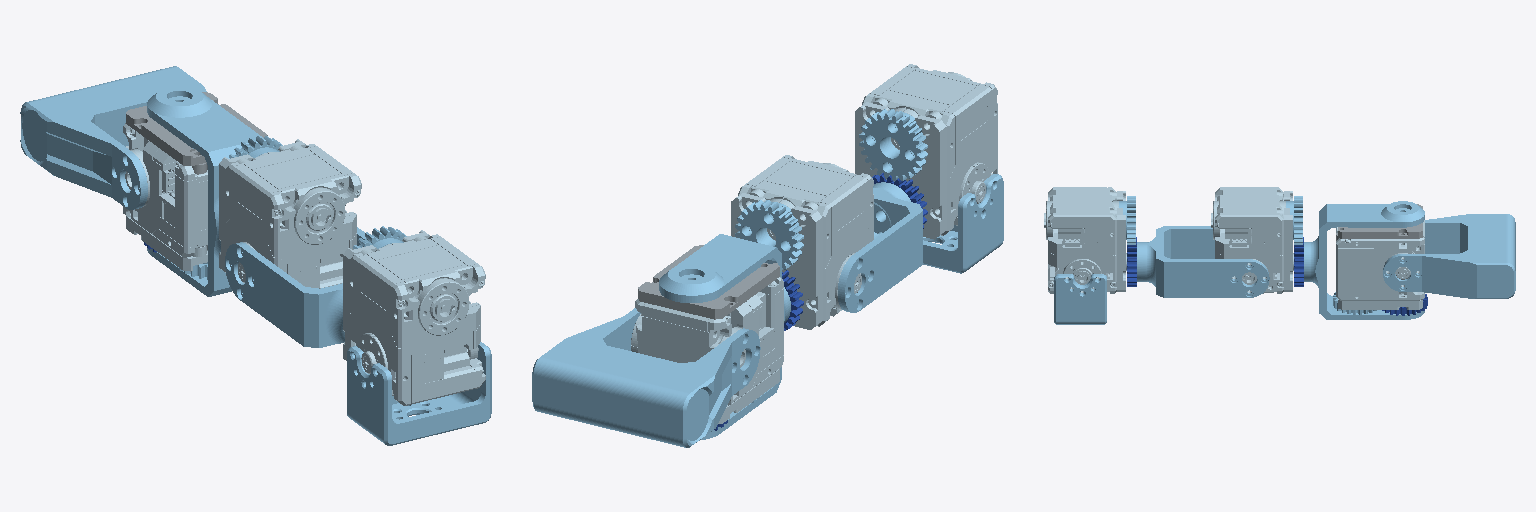
URDF robot description (right_arm_hand):
<?xml version="1.0" ?><robot name="right_arm_hand">  
  <link name="sho_pitch_link">    
    <visual>      
      <origin xyz="0 0 0" rpy="0 -0 0"/>      
      <geometry>        
        <mesh filename="package:///meshes/right_sho_pitch_link_visual.stl"/>        
      </geometry>      
      <material name="sho_pitch_link_material">        
        <color rgba="0.61568627450980395466 0.81176470588235294379 0.9294117647058824927 1.0"/>        
      </material>      
    </visual>    
    <collision>      
      <origin xyz="0 0 0" rpy="0 -0 0"/>      
      <geometry>        
        <mesh filename="package:///meshes/right_sho_pitch_link_collision.stl"/>        
      </geometry>      
    </collision>    
    <inertial>      
      <origin xyz="5.8254248046275251526e-11 -5.126464256112093186e-05 0.008244078812709491888" rpy="0 0 0"/>      
      <mass value="0.0085999999999999930667"/>      
      <inertia ixx="1.227288704054578552e-06" ixy="-2.142994420544767514e-14" ixz="-8.5847198719137675016e-15" iyy="2.9107306060364611617e-06" iyz="7.4623841398182852399e-09" izz="3.0803135950773479222e-06"/>      
    </inertial>    
  </link>  

  <link name="2xl430_gears">    
    <visual>      
      <origin xyz="0 0 0" rpy="0 -0 0"/>      
      <geometry>        
        <mesh filename="package:///meshes/right_2xl430_gears_visual.stl"/>        
      </geometry>      
      <material name="2xl430_gears_material">        
        <color rgba="0.75605985687944088358 0.8580469596269301169 0.91320266199377453376 1.0"/>        
      </material>      
    </visual>    
    <collision>      
      <origin xyz="0 0 0" rpy="0 -0 0"/>      
      <geometry>        
        <mesh filename="package:///meshes/right_2xl430_gears_collision.stl"/>        
      </geometry>      
    </collision>    
    <inertial>      
      <origin xyz="-0.011593155021923897546 -0.0024238821558085605311 -0.018551095523803726173" rpy="0 0 0"/>      
      <mass value="0.11800003674524907338"/>      
      <inertia ixx="2.7511554932655991169e-05" ixy="8.9994756795027824038e-07" ixz="-2.3362914880176381532e-08" iyy="3.2796647067985858378e-05" iyz="-6.5715261571562032637e-07" izz="3.577588668422519762e-05"/>      
    </inertial>    
  </link>  

  <link name="spur_1m_24t_drive">    
    <visual>      
      <origin xyz="0 0 0" rpy="0 -0 0"/>      
      <geometry>        
        <mesh filename="package:///meshes/right_spur_1m_24t_drive_visual.stl"/>        
      </geometry>      
      <material name="spur_1m_24t_drive_material">        
        <color rgba="0.61568627450980406568 0.81176470588235294379 0.92941176470588238168 1.0"/>        
      </material>      
    </visual>    
    <collision>      
      <origin xyz="0 0 0" rpy="0 -0 0"/>      
      <geometry>        
        <mesh filename="package:///meshes/right_spur_1m_24t_drive_collision.stl"/>        
      </geometry>      
    </collision>    
    <inertial>      
      <origin xyz="-7.7450709057219829365e-15 -1.2117261756637246574e-16 0.0047949116178401460231" rpy="0 0 0"/>      
      <mass value="0.0032000000000000001533"/>      
      <inertia ixx="1.4019331346159887702e-07" ixy="1.6002409955622246819e-15" ixz="1.6522681797794404179e-36" iyy="1.4019331260388786185e-07" iyz="-8.3216796199689805911e-37" izz="2.3838919844264060647e-07"/>      
    </inertial>    
  </link>  

  <joint name="right_sho_yaw_drive" type="revolute">    
    <origin xyz="-0.024000000716138239487 -0.019000000152445333662 -0.019000000152448428409" rpy="1.5707963267949289765 -7.4034293748640148514e-14 5.4343716361633809931e-15"/>    
    <parent link="2xl430_gears"/>    
    <child link="spur_1m_24t_drive"/>    
    <axis xyz="0 0 1"/>    
    <limit effort="1" velocity="20" lower="-2.6179938779914944114" upper="2.6179938779914944114"/>    
    <joint_properties friction="0.0"/>    
  </joint>  

  <link name="spur_1m_24t_driven">    
    <visual>      
      <origin xyz="0 0 0" rpy="0 -0 0"/>      
      <geometry>        
        <mesh filename="package:///meshes/right_spur_1m_24t_driven_visual.stl"/>        
      </geometry>      
      <material name="spur_1m_24t_driven_material">        
        <color rgba="0.23137254901960788156 0.38039215686274502337 0.7058823529411765163 1.0"/>        
      </material>      
    </visual>    
    <collision>      
      <origin xyz="0 0 0" rpy="0 -0 0"/>      
      <geometry>        
        <mesh filename="package:///meshes/right_spur_1m_24t_driven_collision.stl"/>        
      </geometry>      
    </collision>    
    <inertial>      
      <origin xyz="2.4368008297630735332e-18 -5.8053882331981886161e-15 -0.00097054817521927832808" rpy="0 0 0"/>      
      <mass value="0.0026999999999999997093"/>      
      <inertia ixx="1.2036234079571063062e-07" ixy="0" ixz="0" iyy="1.203623407957104718e-07" iyz="5.3440906710062173688e-38" izz="2.2847261745924530022e-07"/>      
    </inertial>    
  </link>  

  <link name="sho_yaw_link">    
    <visual>      
      <origin xyz="0 0 0" rpy="0 -0 0"/>      
      <geometry>        
        <mesh filename="package:///meshes/right_sho_yaw_link_visual.stl"/>        
      </geometry>      
      <material name="sho_yaw_link_material">        
        <color rgba="0.61568627450980395466 0.81176470588235294379 0.92941176470588238168 1.0"/>        
      </material>      
    </visual>    
    <collision>      
      <origin xyz="0 0 0" rpy="0 -0 0"/>      
      <geometry>        
        <mesh filename="package:///meshes/right_sho_yaw_link_collision.stl"/>        
      </geometry>      
    </collision>    
    <inertial>      
      <origin xyz="-4.7512033799507649729e-18 2.3540653012766218147e-18 -0.024303257848520151696" rpy="0 0 0"/>      
      <mass value="0.014500000000000011144"/>      
      <inertia ixx="9.0846670053041365841e-06" ixy="3.622409280640416356e-13" ixz="4.2856349173576421916e-43" iyy="5.6910950712097525028e-06" iyz="4.9879708115840720923e-36" izz="4.4819609845548975929e-06"/>      
    </inertial>    
  </link>  

  <link name="2xl430_gears_2">    
    <visual>      
      <origin xyz="0 0 0" rpy="0 -0 0"/>      
      <geometry>        
        <mesh filename="package:///meshes/right_2xl430_gears_2_visual.stl"/>        
      </geometry>      
      <material name="2xl430_gears_2_material">        
        <color rgba="0.75605985687944088358 0.8580469596269301169 0.91320266199377453376 1.0"/>        
      </material>      
    </visual>    
    <collision>      
      <origin xyz="0 0 0" rpy="0 -0 0"/>      
      <geometry>        
        <mesh filename="package:///meshes/right_2xl430_gears_2_collision.stl"/>        
      </geometry>      
    </collision>    
    <inertial>      
      <origin xyz="-0.011593155021929807749 -0.0024238821558083567011 -0.018551095523805894577" rpy="0 0 0"/>      
      <mass value="0.11800003674524907338"/>      
      <inertia ixx="2.7511554932657410796e-05" ixy="8.9994756794943607787e-07" ixz="-2.3362914879880872913e-08" iyy="3.2796647067986874817e-05" iyz="-6.5715261571593372856e-07" izz="3.5775886684226498662e-05"/>      
    </inertial>    
  </link>  

  <link name="spur_1m_24t_drive_2">    
    <visual>      
      <origin xyz="0 0 0" rpy="0 -0 0"/>      
      <geometry>        
        <mesh filename="package:///meshes/right_spur_1m_24t_drive_2_visual.stl"/>        
      </geometry>      
      <material name="spur_1m_24t_drive_2_material">        
        <color rgba="0.61568627450980406568 0.81176470588235294379 0.92941176470588238168 1.0"/>        
      </material>      
    </visual>    
    <collision>      
      <origin xyz="0 0 0" rpy="0 -0 0"/>      
      <geometry>        
        <mesh filename="package:///meshes/right_spur_1m_24t_drive_2_collision.stl"/>        
      </geometry>      
    </collision>    
    <inertial>      
      <origin xyz="-7.7589486935297973933e-15 -1.2117261756637246574e-16 0.0047949116178401382168" rpy="0 0 0"/>      
      <mass value="0.0032000000000000001533"/>      
      <inertia ixx="1.4019331346159887702e-07" ixy="1.6002409955622246819e-15" ixz="-1.1681704812628667432e-35" iyy="1.4019331260388786185e-07" iyz="2.4795678825907448533e-36" izz="2.3838919844264060647e-07"/>      
    </inertial>    
  </link>  

  <joint name="right_elbow_yaw_drive" type="revolute">    
    <origin xyz="-0.024000000716147155966 -0.019000000152450832736 -0.019000000152450298441" rpy="1.5707963267949571762 2.9595367256237359919e-14 -6.4343145465762955833e-14"/>    
    <parent link="2xl430_gears_2"/>    
    <child link="spur_1m_24t_drive_2"/>    
    <axis xyz="0 0 1"/>    
    <limit effort="1" velocity="20" lower="-2.6179938779914944114" upper="2.6179938779914944114"/>    
    <joint_properties friction="0.0"/>    
  </joint>  

  <link name="spur_1m_24t_driven_2">    
    <visual>      
      <origin xyz="0 0 0" rpy="0 -0 0"/>      
      <geometry>        
        <mesh filename="package:///meshes/right_spur_1m_24t_driven_2_visual.stl"/>        
      </geometry>      
      <material name="spur_1m_24t_driven_2_material">        
        <color rgba="0.23137254901960788156 0.38039215686274502337 0.7058823529411765163 1.0"/>        
      </material>      
    </visual>    
    <collision>      
      <origin xyz="0 0 0" rpy="0 -0 0"/>      
      <geometry>        
        <mesh filename="package:///meshes/right_spur_1m_24t_driven_2_collision.stl"/>        
      </geometry>      
    </collision>    
    <inertial>      
      <origin xyz="-1.0326461221905406556e-18 -5.8053882331981886161e-15 -0.00097054817521928515855" rpy="0 0 0"/>      
      <mass value="0.0026999999999999997093"/>      
      <inertia ixx="1.2036234079571063062e-07" ixy="0" ixz="0" iyy="1.203623407957104718e-07" iyz="-8.2412659182369258854e-37" izz="2.2847261745924530022e-07"/>      
    </inertial>    
  </link>  

  <link name="elb_yaw_link">    
    <visual>      
      <origin xyz="0 0 0" rpy="0 -0 0"/>      
      <geometry>        
        <mesh filename="package:///meshes/right_elb_yaw_link_visual.stl"/>        
      </geometry>      
      <material name="elb_yaw_link_material">        
        <color rgba="0.61568627450980395466 0.81176470588235294379 0.9294117647058824927 1.0"/>        
      </material>      
    </visual>    
    <collision>      
      <origin xyz="0 0 0" rpy="0 -0 0"/>      
      <geometry>        
        <mesh filename="package:///meshes/right_elb_yaw_link_collision.stl"/>        
      </geometry>      
    </collision>    
    <inertial>      
      <origin xyz="5.3127688027307578707e-08 0.0019833638641961670243 -0.023416643551549969765" rpy="0 0 0"/>      
      <mass value="0.017499999999999998196"/>      
      <inertia ixx="1.4134344903109192999e-05" ixy="1.6945783921971547142e-12" ixz="-1.1286398721902334746e-11" iyy="6.6435900776211298052e-06" iyz="1.0545227077253051227e-06" izz="8.9925290757998959832e-06"/>      
    </inertial>    
  </link>  

  <link name="spur_1m_24t_driven_3">    
    <visual>      
      <origin xyz="0 0 0" rpy="0 -0 0"/>      
      <geometry>        
        <mesh filename="package:///meshes/right_spur_1m_24t_driven_3_visual.stl"/>        
      </geometry>      
      <material name="spur_1m_24t_driven_3_material">        
        <color rgba="0.23137254901960788156 0.38039215686274502337 0.7058823529411765163 1.0"/>        
      </material>      
    </visual>    
    <collision>      
      <origin xyz="0 0 0" rpy="0 -0 0"/>      
      <geometry>        
        <mesh filename="package:///meshes/right_spur_1m_24t_driven_3_collision.stl"/>        
      </geometry>      
    </collision>    
    <inertial>      
      <origin xyz="2.4368008297630743036e-18 -5.8053882331981886161e-15 -0.0025705481752192789469" rpy="0 0 0"/>      
      <mass value="0.0026999999999999997093"/>      
      <inertia ixx="1.2036234079571063062e-07" ixy="-7.6954038306055206415e-37" ixz="6.0796998427618648078e-36" iyy="1.203623407957104718e-07" iyz="2.966519908057562806e-38" izz="2.2847261745924530022e-07"/>      
    </inertial>    
  </link>  

  <link name="2xl430_gears_3">    
    <visual>      
      <origin xyz="0 0 0" rpy="0 -0 0"/>      
      <geometry>        
        <mesh filename="package:///meshes/right_2xl430_gears_3_visual.stl"/>        
      </geometry>      
      <material name="2xl430_gears_3_material">        
        <color rgba="0.75605985687944088358 0.8580469596269301169 0.91320266199377453376 1.0"/>        
      </material>      
    </visual>    
    <collision>      
      <origin xyz="0 0 0" rpy="0 -0 0"/>      
      <geometry>        
        <mesh filename="package:///meshes/right_2xl430_gears_3_collision.stl"/>        
      </geometry>      
    </collision>    
    <inertial>      
      <origin xyz="0.00044890447620021356294 0.011593154663856691453 -0.024576117996641132224" rpy="0 0 0"/>      
      <mass value="0.11800003674524907338"/>      
      <inertia ixx="3.5775886684226776489e-05" ixy="2.3362914879829657198e-08" ixz="6.5715261571537786319e-07" iyy="2.7511554932656824649e-05" iyz="8.9994756795122554085e-07" izz="3.2796647067986258177e-05"/>      
    </inertial>    
  </link>  

  <link name="spur_1m_24t_drive_3">    
    <visual>      
      <origin xyz="0 0 0" rpy="0 -0 0"/>      
      <geometry>        
        <mesh filename="package:///meshes/right_spur_1m_24t_drive_3_visual.stl"/>        
      </geometry>      
      <material name="spur_1m_24t_drive_3_material">        
        <color rgba="0.61568627450980406568 0.81176470588235294379 0.92941176470588238168 1.0"/>        
      </material>      
    </visual>    
    <collision>      
      <origin xyz="0 0 0" rpy="0 -0 0"/>      
      <geometry>        
        <mesh filename="package:///meshes/right_spur_1m_24t_drive_3_collision.stl"/>        
      </geometry>      
    </collision>    
    <inertial>      
      <origin xyz="-7.7520097996258901649e-15 -1.2117261756637246574e-16 0.004794911617840143421" rpy="0 0 0"/>      
      <mass value="0.0032000000000000001533"/>      
      <inertia ixx="1.4019331346159887702e-07" ixy="1.6002410001197768567e-15" ixz="1.1686733432993129448e-36" iyy="1.4019331260388783538e-07" iyz="-2.1243526921822026005e-37" izz="2.3838919844264060647e-07"/>      
    </inertial>    
  </link>  

  <joint name="right_wrist_pitch_drive" type="revolute">    
    <origin xyz="-1.5244304577405686261e-10 0.024000000358071177375 -0.0080000000000011797785" rpy="-1.0519265191422955506e-14 5.4953979628752545946e-14 -1.5707963267949167641"/>    
    <parent link="2xl430_gears_3"/>    
    <child link="spur_1m_24t_drive_3"/>    
    <axis xyz="0 0 1"/>    
    <limit effort="1" velocity="20" lower="-1.3962634015954635824" upper="1.9198621771937625091"/>    
    <joint_properties friction="0.0"/>    
  </joint>  

  <link name="hand">    
    <visual>      
      <origin xyz="0 0 0" rpy="0 -0 0"/>      
      <geometry>        
        <mesh filename="package:///meshes/right_hand_visual.stl"/>        
      </geometry>      
      <material name="hand_material">        
        <color rgba="0.61568627450980395466 0.81176470588235294379 0.92941176470588238168 1.0"/>        
      </material>      
    </visual>    
    <collision>      
      <origin xyz="0 0 0" rpy="0 -0 0"/>      
      <geometry>        
        <mesh filename="package:///meshes/right_hand_collision.stl"/>        
      </geometry>      
    </collision>    
    <inertial>      
      <origin xyz="-2.489950859939713396e-10 0.040594531666389037372 -0.018520936085747969485" rpy="0 0 0"/>      
      <mass value="0.017000000000001441042"/>      
      <inertia ixx="9.2187594185322302979e-06" ixy="-1.5922041033334630697e-15" ixz="-1.053951146944666362e-13" iyy="6.6718567758212704696e-06" iyz="2.1533596775200585889e-08" izz="3.7788698411876594226e-06"/>      
    </inertial>    
  </link>  

  <joint name="right_wrist_roll" type="revolute">    
    <origin xyz="0.019000000000001921602 -3.5806768661217347471e-10 -0.027000000152449948193" rpy="-3.141592653589793116 -1.5707963267945153074 0"/>    
    <parent link="2xl430_gears_3"/>    
    <child link="hand"/>    
    <axis xyz="0 0 1"/>    
    <limit effort="1" velocity="20" lower="-1.3962634015954635824" upper="1.9198621771937625091"/>    
    <joint_properties friction="0.0"/>    
  </joint>  

  <link name="wrist_bearing_plate">    
    <visual>      
      <origin xyz="0 0 0" rpy="0 -0 0"/>      
      <geometry>        
        <mesh filename="package:///meshes/right_wrist_bearing_plate_visual.stl"/>        
      </geometry>      
      <material name="wrist_bearing_plate_material">        
        <color rgba="0.64496316278892629192 0.69011804996940528945 0.71706771073555886087 1.0"/>        
      </material>      
    </visual>    
    <collision>      
      <origin xyz="0 0 0" rpy="0 -0 0"/>      
      <geometry>        
        <mesh filename="package:///meshes/right_wrist_bearing_plate_collision.stl"/>        
      </geometry>      
    </collision>    
    <inertial>      
      <origin xyz="-0.0075835583121499497775 -0.015499999999999980807 -0.0018386323705903383479" rpy="0 0 0"/>      
      <mass value="0.0049000367468305539714"/>      
      <inertia ixx="4.970743010915013972e-07" ixy="1.7926180143713080926e-22" ixz="1.8100904820814078261e-08" iyy="7.1268523603538584823e-07" iyz="-6.8569550891497149052e-23" izz="1.1919657811600113469e-06"/>      
    </inertial>    
  </link>  

  <joint name="right_wrist_pitch_fixed" type="fixed">    
    <origin xyz="0.015500000000003951589 4.4686476741162550752e-15 -0.045000000000003870237" rpy="5.3290705180300300612e-15 1.2051470932306253475e-13 -1.570796326794896558"/>    
    <parent link="2xl430_gears_3"/>    
    <child link="wrist_bearing_plate"/>    
    <axis xyz="0 0 1"/>    
    <limit effort="1" velocity="20"/>    
    <joint_properties friction="0.0"/>    
  </joint>  

  <joint name="right_wrist_pitch_driven" type="revolute">    
    <origin xyz="-2.7755575615628913511e-17 5.5220263365470826379e-30 -0.0015999999999999970409" rpy="8.7209719320528352177e-15 6.1232339997705582035e-17 1.5707963267948947816"/>    
    <parent link="spur_1m_24t_driven_3"/>    
    <child link="2xl430_gears_3"/>    
    <axis xyz="0 0 1"/>    
    <limit effort="1" velocity="20" lower="-1.9198621771937625091" upper="1.3962634015954635824"/>    
    <joint_properties friction="0.0"/>    
  </joint>  

  <joint name="right_wrist_roll_fixed" type="fixed">    
    <origin xyz="-3.9443045261050590271e-30 -0.025299999999999999573 -0.05200000000000001843" rpy="1.5707963267949385244 1.570796326794896558 0"/>    
    <parent link="elb_yaw_link"/>    
    <child link="spur_1m_24t_driven_3"/>    
    <axis xyz="0 0 1"/>    
    <limit effort="1" velocity="20"/>    
    <joint_properties friction="0.0"/>    
  </joint>  

  <joint name="right_elbow_yaw_fixed" type="fixed">    
    <origin xyz="-6.9388939039072283776e-18 0 0.0015999999999999625633" rpy="-3.1415926535897917837 -5.545896421255929151e-30 -1.570796326794896558"/>    
    <parent link="spur_1m_24t_driven_2"/>    
    <child link="elb_yaw_link"/>    
    <axis xyz="0 0 1"/>    
    <limit effort="1" velocity="20"/>    
    <joint_properties friction="0.0"/>    
  </joint>  

  <joint name="right_elbow_yaw_driven" type="revolute">    
    <origin xyz="-3.5807115258967847637e-10 -0.027000000152453060287 -0.019000000000002816719" rpy="1.5707963267949573982 3.0852757707134402472e-14 -1.047495423780654911e-13"/>    
    <parent link="2xl430_gears_2"/>    
    <child link="spur_1m_24t_driven_2"/>    
    <axis xyz="0 0 1"/>    
    <limit effort="1" velocity="20" lower="-2.6179938779914944114" upper="2.6179938779914944114"/>    
    <joint_properties friction="0.0"/>    
  </joint>  

  <joint name="right_elbow_roll" type="revolute">    
    <origin xyz="-3.4694469519536141888e-18 -0.018999999999999999528 -0.058999999999999996891" rpy="1.570796326794896558 -3.2439825080223504913e-13 -2.9976021665407794952e-15"/>    
    <parent link="sho_yaw_link"/>    
    <child link="2xl430_gears_2"/>    
    <axis xyz="0 0 1"/>    
    <limit effort="1" velocity="20" lower="-1.9198621771937625091" upper="2.4434609527920612138"/>    
    <joint_properties friction="0.0"/>    
  </joint>  

  <joint name="right_sho_yaw_fixed" type="fixed">    
    <origin xyz="0 1.1832913578315177081e-30 0.0015999999999999903189" rpy="3.141592653589793116 -0 0"/>    
    <parent link="spur_1m_24t_driven"/>    
    <child link="sho_yaw_link"/>    
    <axis xyz="0 0 1"/>    
    <limit effort="1" velocity="20"/>    
    <joint_properties friction="0.0"/>    
  </joint>  

  <joint name="right_sho_yaw_driven" type="revolute">    
    <origin xyz="-3.5806817233474674822e-10 -0.027000000152446659157 -0.019000000000003357953" rpy="1.5707963267949260899 -2.2055090607972632104e-14 -2.2204460492023508308e-16"/>    
    <parent link="2xl430_gears"/>    
    <child link="spur_1m_24t_driven"/>    
    <axis xyz="0 0 1"/>    
    <limit effort="1" velocity="20" lower="-2.6179938779914944114" upper="2.6179938779914944114"/>    
    <joint_properties friction="0.0"/>    
  </joint>  

  <joint name="right_sho_roll" type="revolute">    
    <origin xyz="-0.018999999999999999528 0.0010000000000000076102 0.027000000000000003164" rpy="-3.1415926535897797933 1.5707963267948090724 0"/>    
    <parent link="sho_pitch_link"/>    
    <child link="2xl430_gears"/>    
    <axis xyz="0 0 1"/>    
    <limit effort="1" velocity="20" lower="-1.570796326794896558" upper="0.34906585039886589561"/>    
    <joint_properties friction="0.0"/>    
  </joint>  


</robot>

--- What the picture shows (computed from the rendered views, not written in the file) ---
3 views of the same robot in one strip: view 1: azimuth 30°, elevation 25°; view 2: azimuth 150°, elevation 25°; view 3: azimuth 270°, elevation 25° (orthographic).
Robot: right_arm_hand — 14 links, 13 joints (9 revolute, 4 fixed); root link sho_pitch_link; default pose: all joints at 0.
Visible links, largest first — view 1: 2xl430_gears, 2xl430_gears_2, hand, 2xl430_gears_3, sho_pitch_link, elb_yaw_link, sho_yaw_link, wrist_bearing_plate, spur_1m_24t_drive, spur_1m_24t_drive_2; view 2: hand, 2xl430_gears, 2xl430_gears_2, 2xl430_gears_3, sho_yaw_link, elb_yaw_link, sho_pitch_link, spur_1m_24t_drive, wrist_bearing_plate, spur_1m_24t_drive_2, spur_1m_24t_driven_2, spur_1m_24t_driven; view 3: hand, 2xl430_gears, sho_yaw_link, 2xl430_gears_2, 2xl430_gears_3, elb_yaw_link, sho_pitch_link, wrist_bearing_plate, spur_1m_24t_drive, spur_1m_24t_drive_2.
Boxes of the visible links, box(x1,y1,x2,y2) form: 2xl430_gears: box(343, 230, 485, 405); 2xl430_gears_2: box(219, 139, 361, 288); hand: box(20, 66, 206, 209); 2xl430_gears_3: box(123, 123, 207, 271); sho_pitch_link: box(347, 342, 491, 445); elb_yaw_link: box(147, 86, 262, 296); sho_yaw_link: box(225, 227, 365, 347); wrist_bearing_plate: box(126, 92, 267, 174); spur_1m_24t_drive: box(353, 226, 406, 248); spur_1m_24t_drive_2: box(229, 136, 282, 158); hand: box(532, 308, 760, 447); 2xl430_gears: box(855, 64, 997, 239); 2xl430_gears_2: box(731, 155, 873, 329); 2xl430_gears_3: box(631, 277, 783, 423); sho_yaw_link: box(838, 182, 922, 312); elb_yaw_link: box(659, 234, 790, 440); sho_pitch_link: box(923, 174, 1003, 273); spur_1m_24t_drive: box(859, 109, 927, 181); wrist_bearing_plate: box(638, 245, 779, 319); spur_1m_24t_drive_2: box(735, 200, 803, 269); spur_1m_24t_driven_2: box(782, 270, 803, 330); spur_1m_24t_driven: box(872, 173, 927, 228); hand: box(1383, 214, 1515, 298); 2xl430_gears: box(1044, 187, 1126, 293); sho_yaw_link: box(1137, 226, 1269, 297); 2xl430_gears_2: box(1211, 187, 1293, 293); 2xl430_gears_3: box(1336, 220, 1424, 309); elb_yaw_link: box(1304, 201, 1424, 319); sho_pitch_link: box(1054, 274, 1106, 324); wrist_bearing_plate: box(1336, 204, 1422, 240); spur_1m_24t_drive: box(1119, 196, 1135, 244); spur_1m_24t_drive_2: box(1286, 196, 1302, 244).
Size in the robot's own frame: 0.063 by 0.2472 by 0.0652 metres.
14 mesh visuals loaded from 14 distinct referenced files (14 binary STL).
